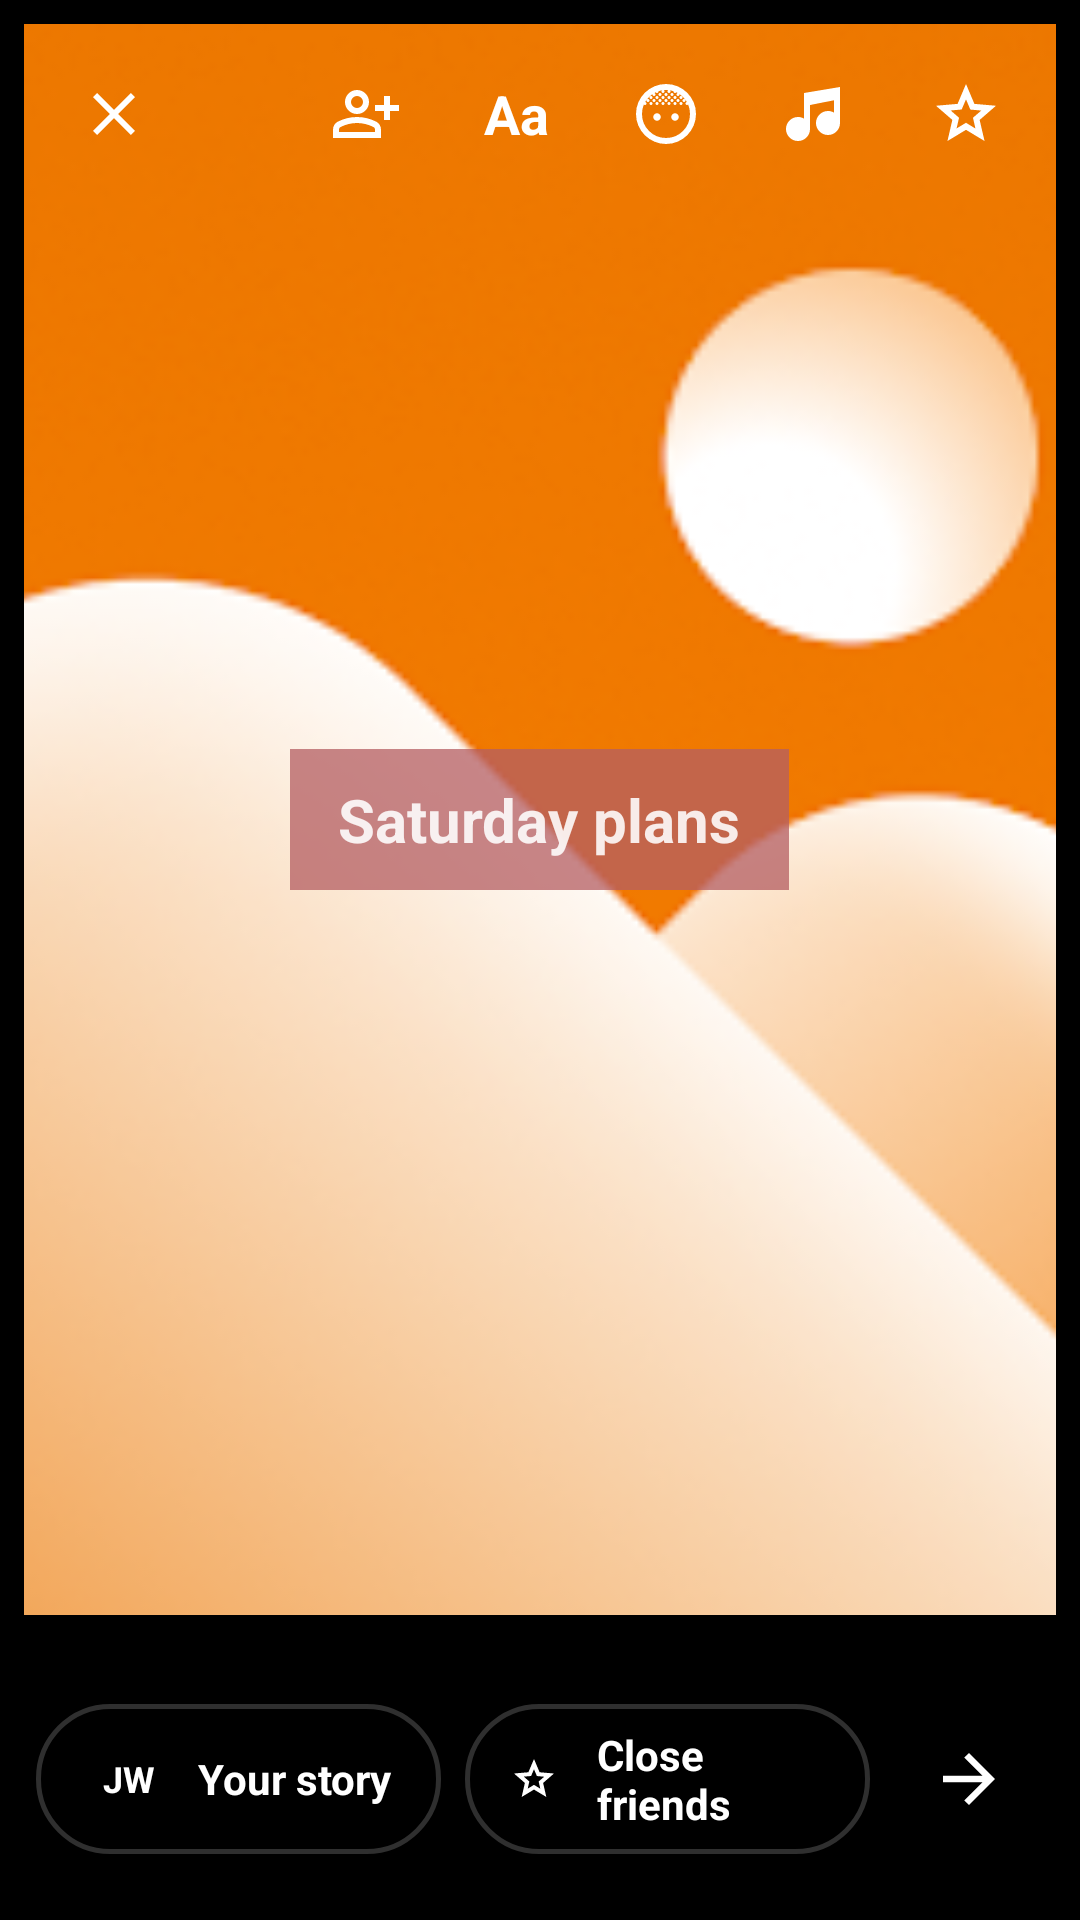

Point at icon controls on the screen. Image size 1080 × 1920, points as [x,y].
addcontact: [366,114]
close: [114,114]
face: [666,114]
music: [813,114]
star: [966,112], [534,1778]
